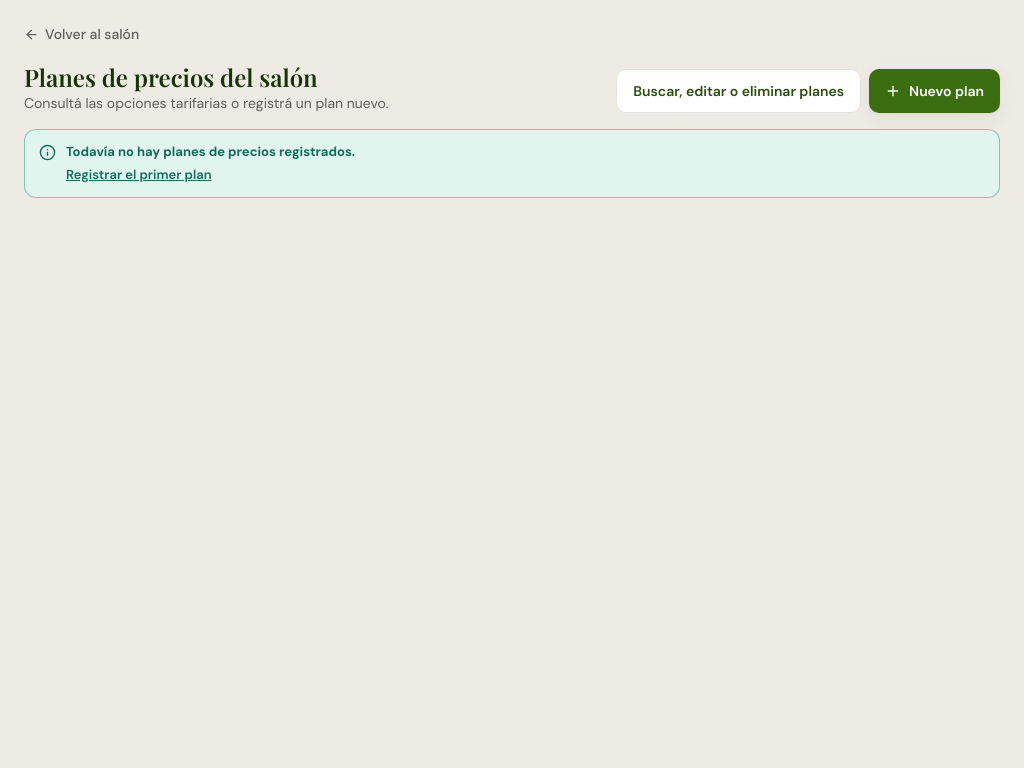
HU-009 listado de planes del salón › sin planes registrados invita a registrar el primero
Expected: the text "Todavía no hay planes de precios registrados." is shown, [66,142,355,161]
Click the button "Registrar el primer plan" at (139, 175), box [66,165,212,184]
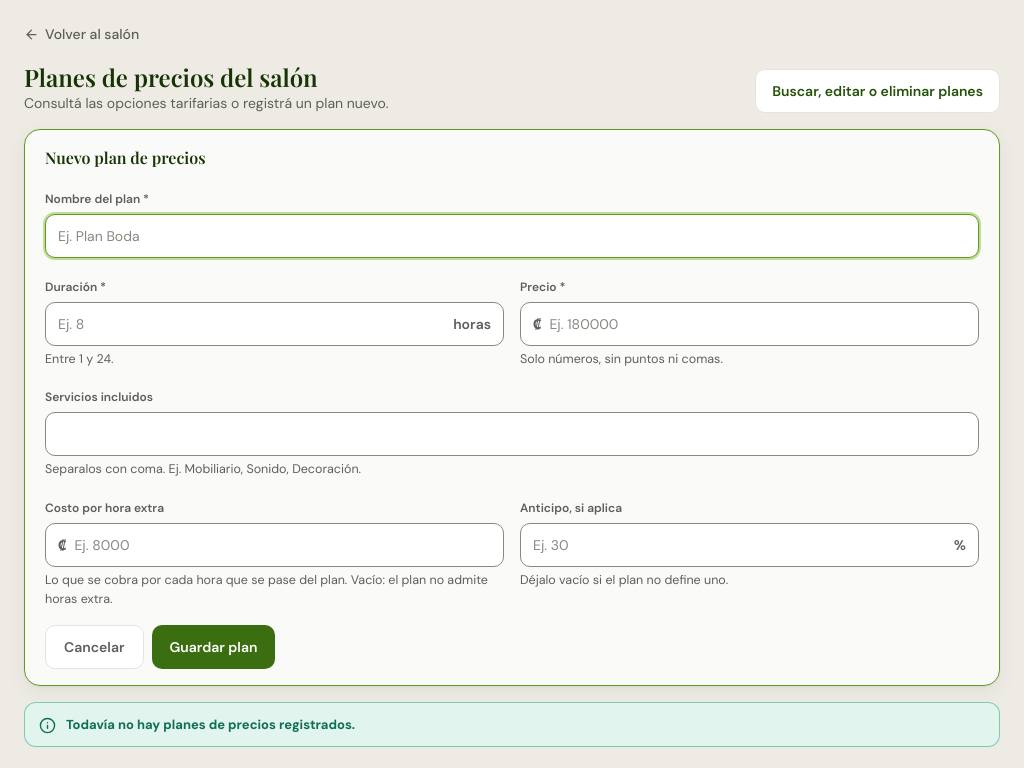
Now the field labelled "Nombre del plan *" is shown, box [58,226,966,246]
